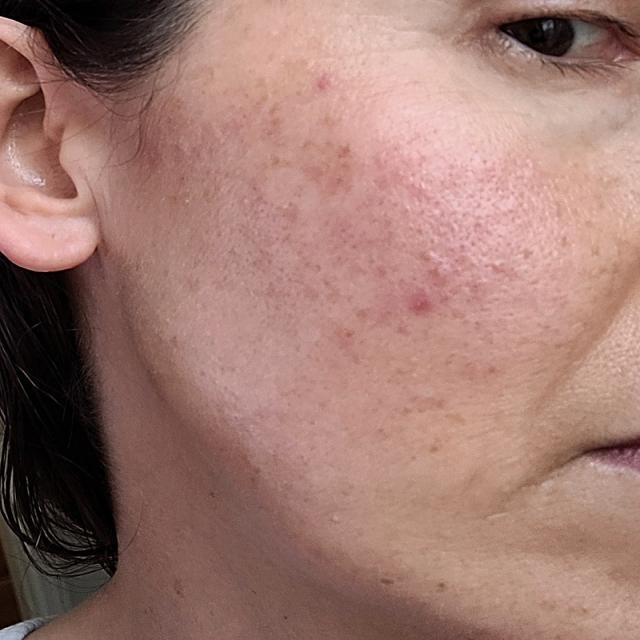Rosacea: (114, 68, 504, 414)
